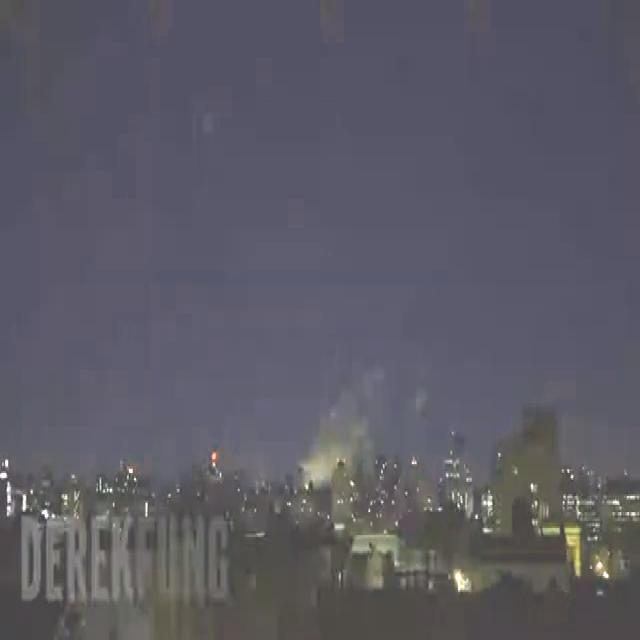smoke: (300, 366, 384, 480)
